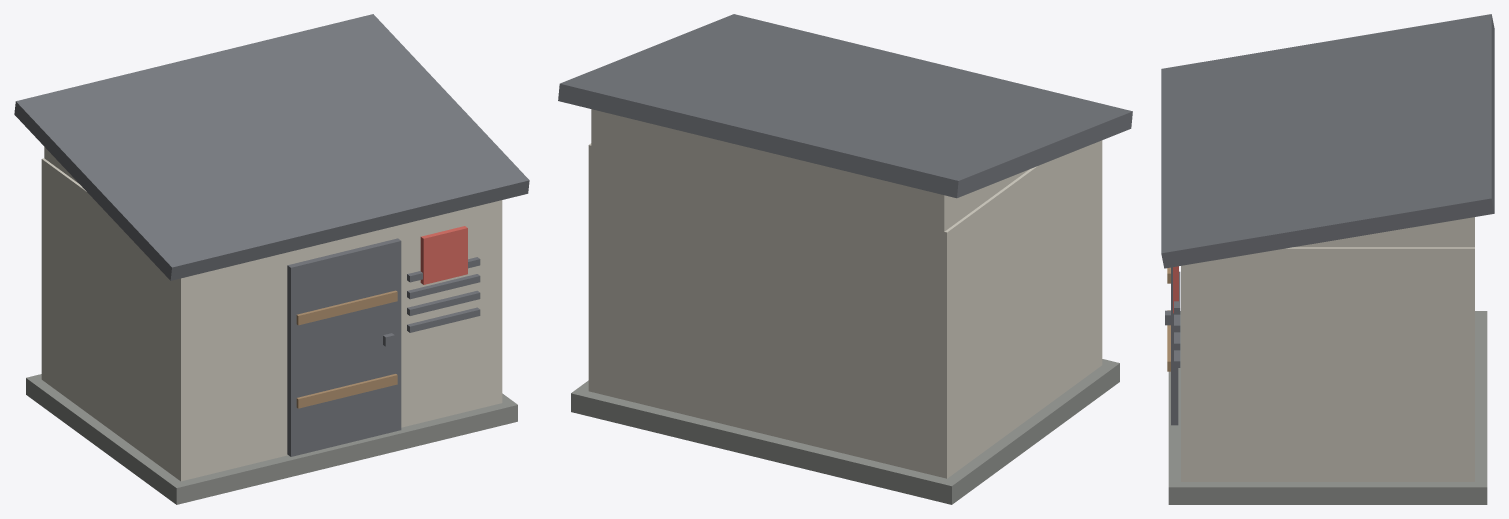
File: lighthouse-and-rocky-coast-oil-and-fuel-store-3da4b0e9__36596.glb
The picture shows the model from 3 angles, left to right: view 1: azimuth 30°, elevation 25°; view 2: azimuth 150°, elevation 25°; view 3: azimuth 270°, elevation 25°; orthographic projection. The views are drawn at different scales.
Visible parts, largest first — view 1: oil-and-fuel-store, door/iron, door/timber; view 2: oil-and-fuel-store; view 3: oil-and-fuel-store, door/iron.
Part boxes in pixels (box(x1,y1,x2,y2)): oil-and-fuel-store: box(14, 14, 529, 504); door/iron: box(287, 238, 401, 456); door/timber: box(296, 290, 397, 408); oil-and-fuel-store: box(558, 14, 1132, 504); oil-and-fuel-store: box(1161, 14, 1494, 504); door/iron: box(1165, 267, 1178, 425).
Bounding box in the file's own units: 3.56 × 2.8 × 2.72.
